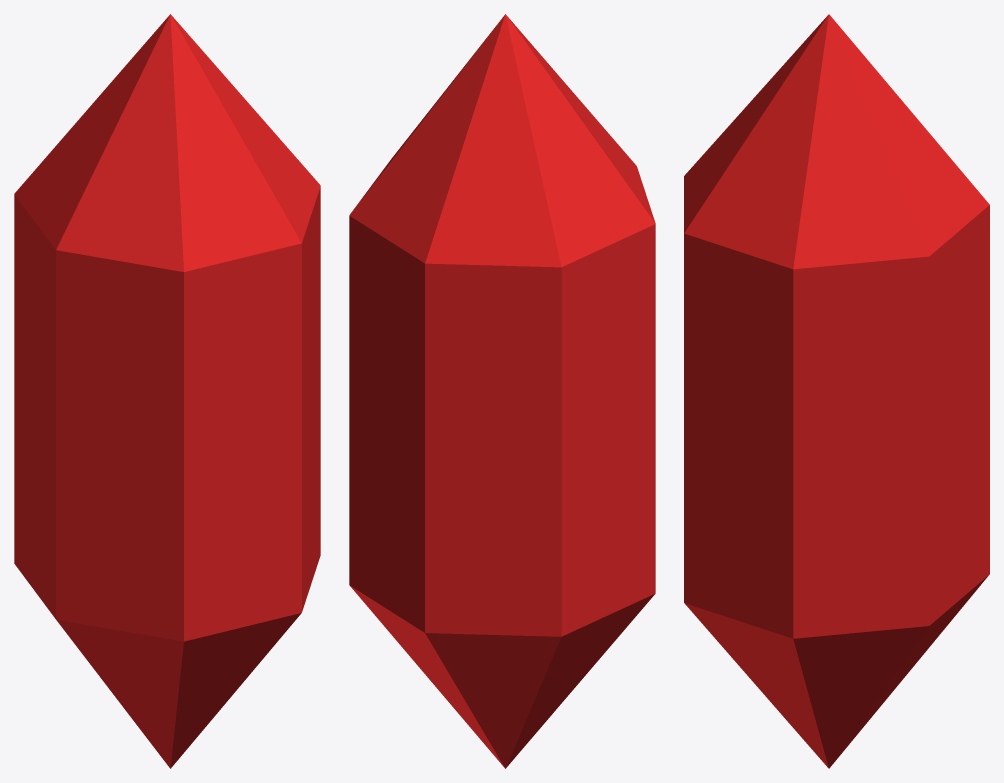
File: cristal-2-1.fbx
3 renders of one model, left to right at view 1: azimuth 30°, elevation 25°; view 2: azimuth 150°, elevation 25°; view 3: azimuth 270°, elevation 25°, orthographic.
Parts seen in each view (by area): view 1: Cylinder.816; view 2: Cylinder.816; view 3: Cylinder.816.
Part boxes in pixels (<box>): Cylinder.816: <box>14,14,320,768</box>; Cylinder.816: <box>349,14,655,768</box>; Cylinder.816: <box>684,14,989,768</box>.
Bounding box in the file's own units: 15 × 40.87 × 15.
